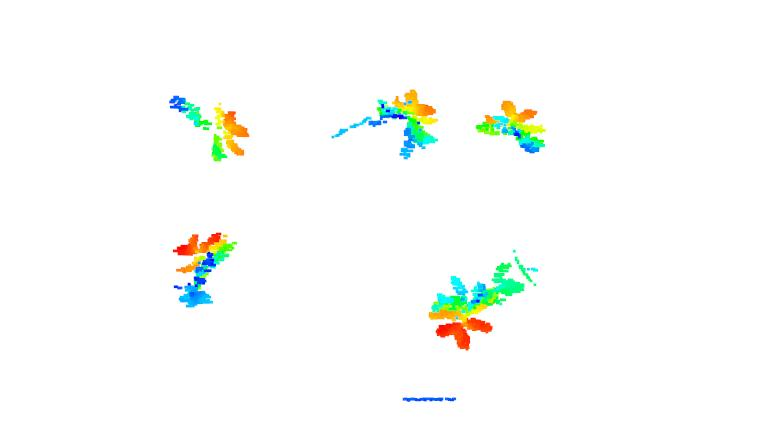chickpea: (427, 261, 529, 353), (167, 95, 253, 164), (169, 227, 240, 310), (475, 99, 552, 158), (377, 88, 442, 157)
